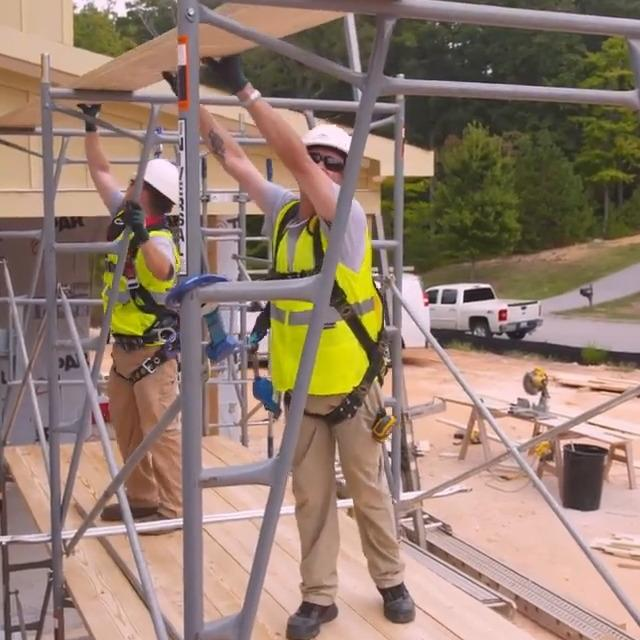Gloves: (203, 52, 252, 97), (122, 200, 150, 246), (77, 102, 101, 133), (164, 67, 179, 97)
Hardhat: (135, 157, 178, 202), (303, 124, 352, 152)
Person: (163, 50, 415, 640), (76, 100, 184, 537)
Safety Vest: (273, 198, 378, 395), (103, 211, 179, 344)
truck: (425, 282, 543, 340)
van: (238, 268, 433, 369)
